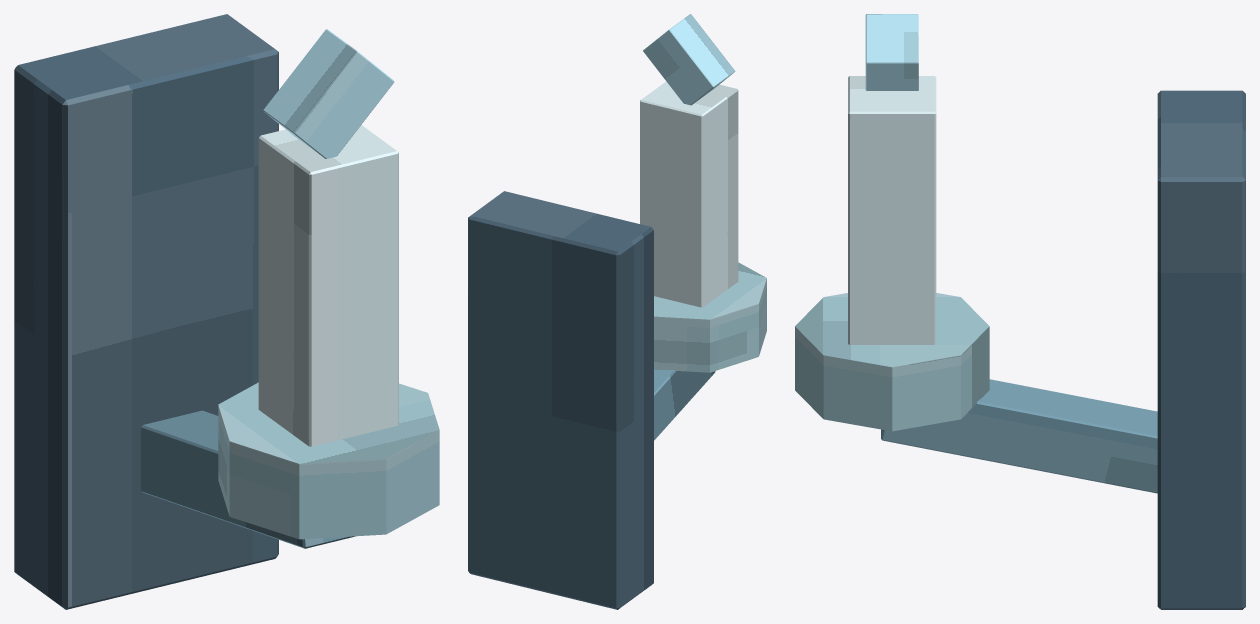
Rendered from wall_sconce_cool.glb.
3 views of the same model, side by side, from view 1: azimuth 30°, elevation 25°; view 2: azimuth 150°, elevation 25°; view 3: azimuth 270°, elevation 25° (orthographic). The views are drawn at different scales.
Parts seen in each view (by area): view 1: SconcePlate, SconceCandle, SconceCup, SconceFlame, SconceArm; view 2: SconcePlate, SconceCandle, SconceCup, SconceFlame, SconceArm; view 3: SconcePlate, SconceCandle, SconceCup, SconceArm, SconceFlame.
Boxes of the visible parts, bbox=[...] form: SconcePlate: bbox=[14, 14, 278, 609]; SconceCandle: bbox=[258, 125, 398, 446]; SconceCup: bbox=[218, 382, 439, 539]; SconceFlame: bbox=[263, 29, 394, 158]; SconceArm: bbox=[141, 410, 355, 548]; SconcePlate: bbox=[468, 191, 653, 609]; SconceCandle: bbox=[640, 81, 738, 307]; SconceCup: bbox=[654, 262, 766, 372]; SconceFlame: bbox=[643, 14, 735, 105]; SconceArm: bbox=[654, 369, 715, 440]; SconcePlate: bbox=[1157, 90, 1245, 609]; SconceCandle: bbox=[848, 76, 936, 344]; SconceCup: bbox=[795, 293, 989, 431]; SconceArm: bbox=[881, 379, 1157, 493]; SconceFlame: bbox=[865, 14, 918, 90].
Bounding box in the file's own units: 0.24 × 0.6959 × 0.51.
1 material, 1 textured.
